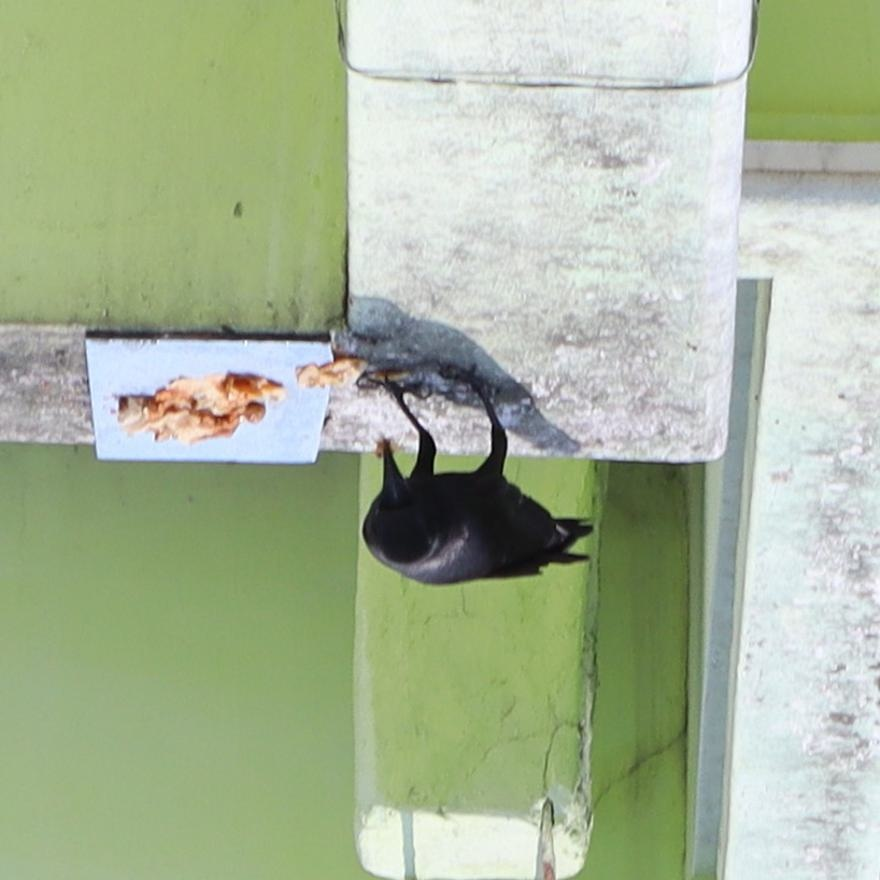crow: (338, 360, 614, 628)
